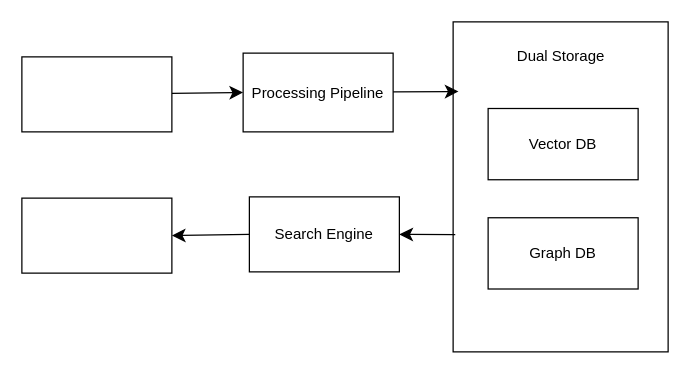
Some shapes in this 690 by 374 pixel diagram are drawn without their labels. The shapes that lost their labels are listed below. From the top down, each one's centre as x and y in pixels, then its label:
At (96,94): "Documents".
At (96,235): "Query Response".
